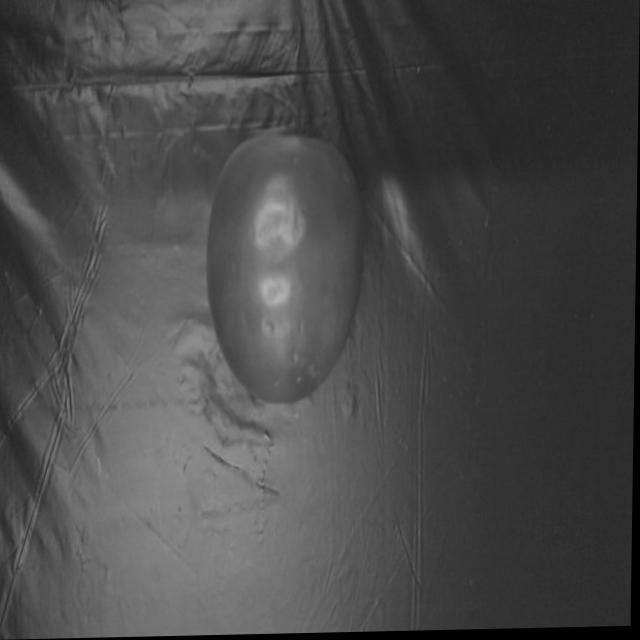kirmizi: (187, 112, 377, 421)
